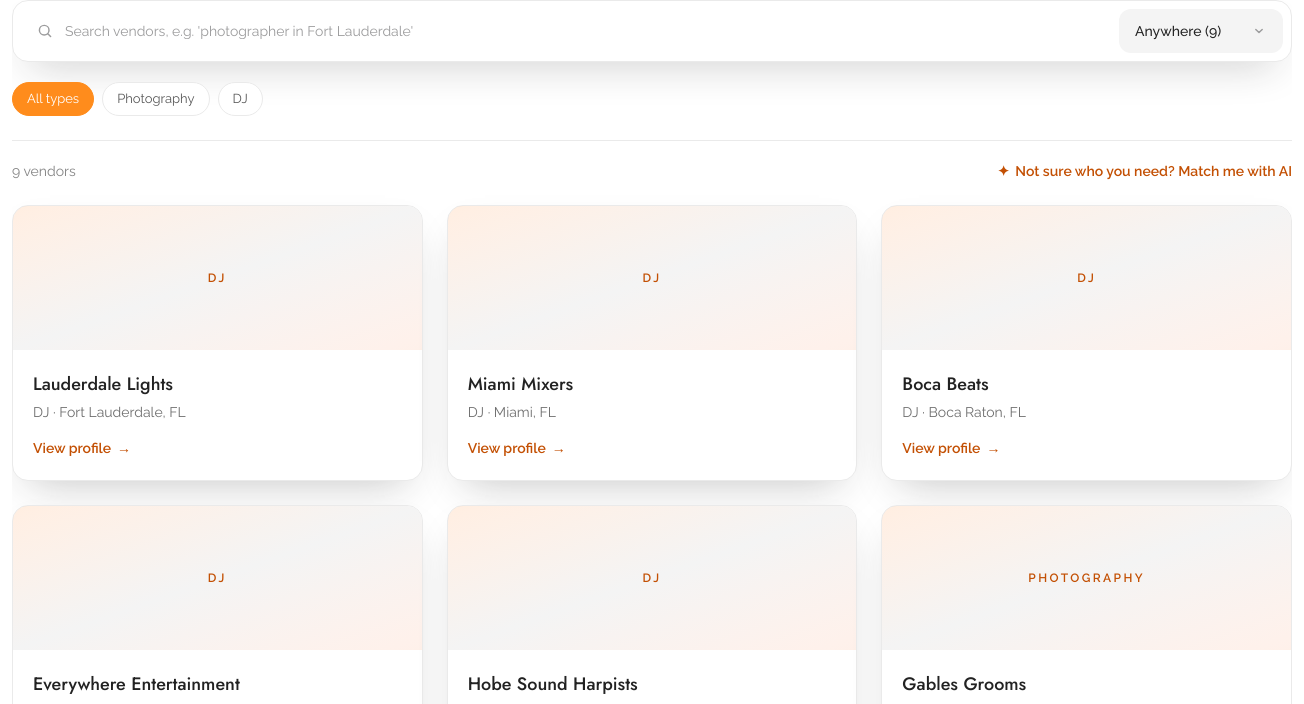
Test case: VendorDirectoryList metro and area filters › narrows to an area only within the chosen metro
Expected: the button "Broward" is not shown
Select "South Florida (6)" in the dropdown named "Metro": (1201, 31) left=1119, top=9, right=1283, bottom=53
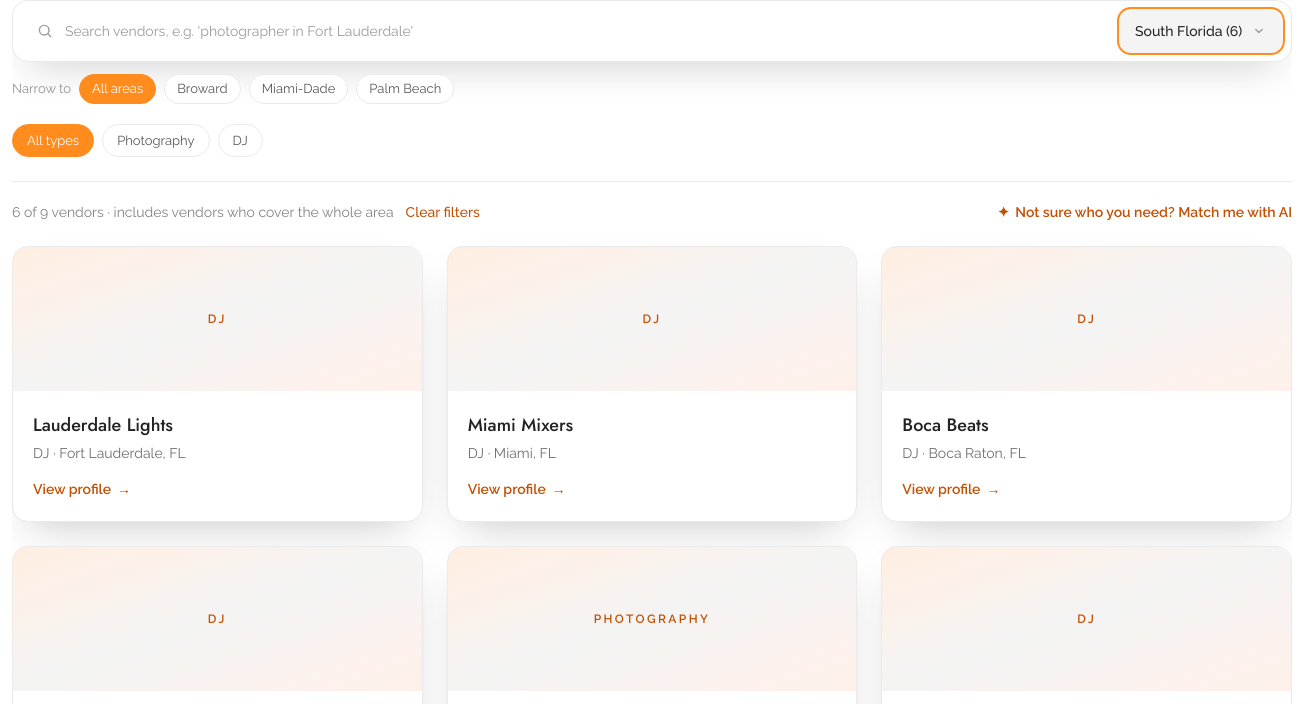
Click the button "Broward": (202, 89) left=164, top=74, right=241, bottom=104
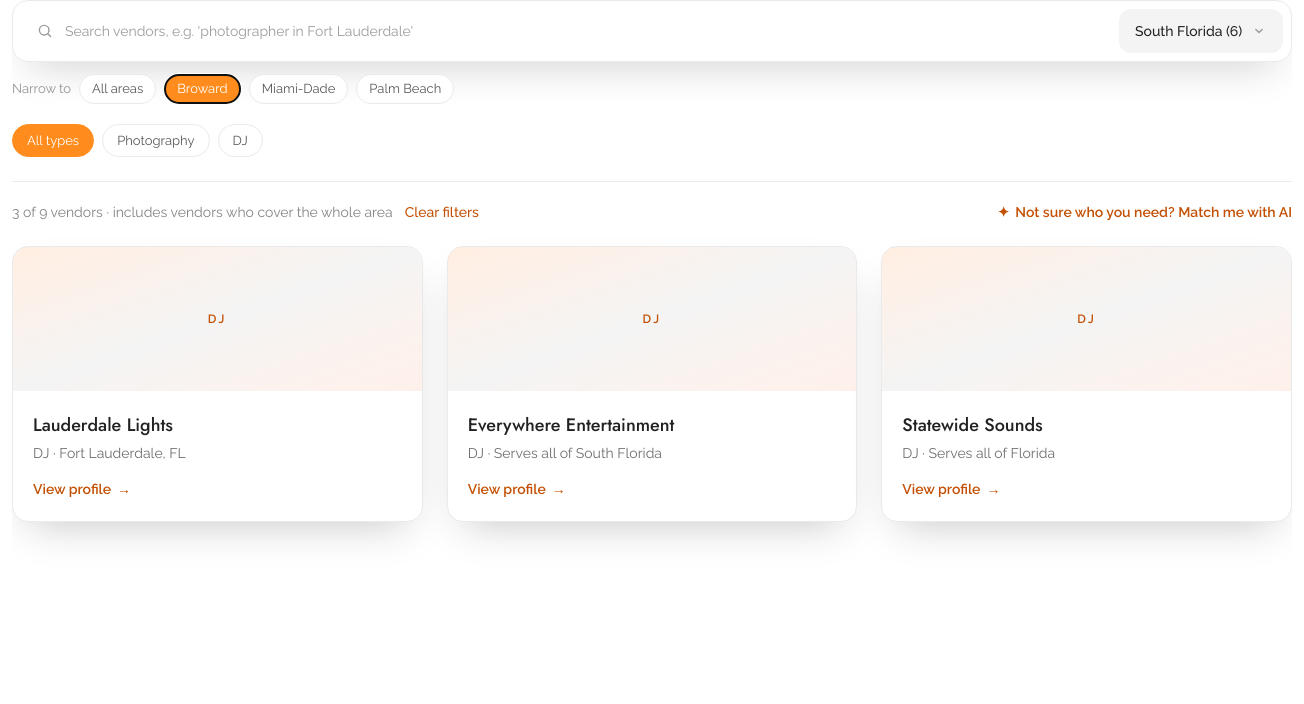
Expected: the heading "Lauderdale Lights" is shown, left=33, top=412, right=173, bottom=438
Result: the link "Miami Mixers" no longer shows "Miami Mixers"
Result: the link "Boca Beats" no longer shows "Boca Beats"
